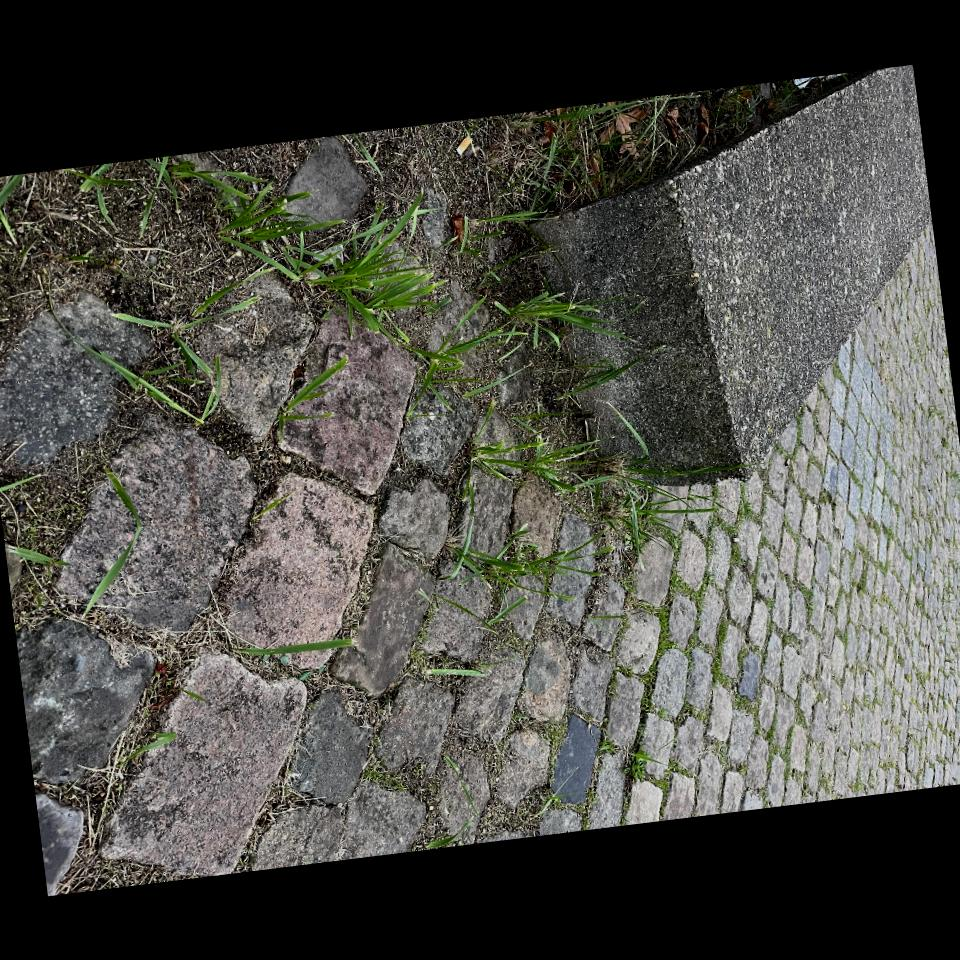weed: (471, 413, 693, 556), (227, 196, 438, 331), (397, 297, 528, 413), (73, 338, 202, 422), (83, 469, 141, 615), (453, 526, 592, 585), (472, 433, 598, 491), (495, 291, 624, 346), (279, 356, 347, 435), (219, 186, 316, 240), (179, 296, 259, 329), (481, 236, 522, 285), (451, 213, 500, 252), (235, 639, 352, 655), (172, 333, 213, 376), (126, 731, 176, 761), (199, 357, 221, 422), (5, 543, 66, 564), (425, 668, 485, 676), (193, 306, 203, 315), (500, 261, 504, 266)
